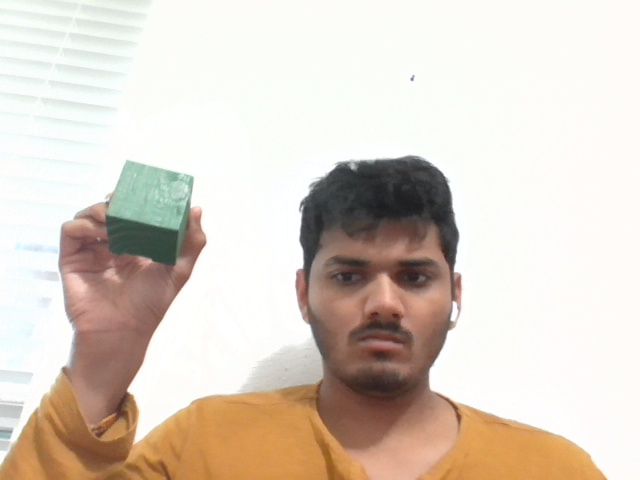GreenBlock: (107, 161, 192, 263)
